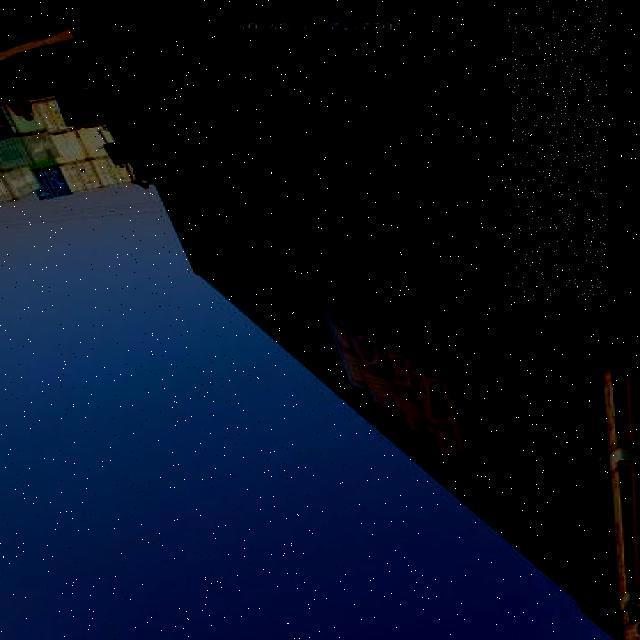rust: (509, 1, 609, 298)
